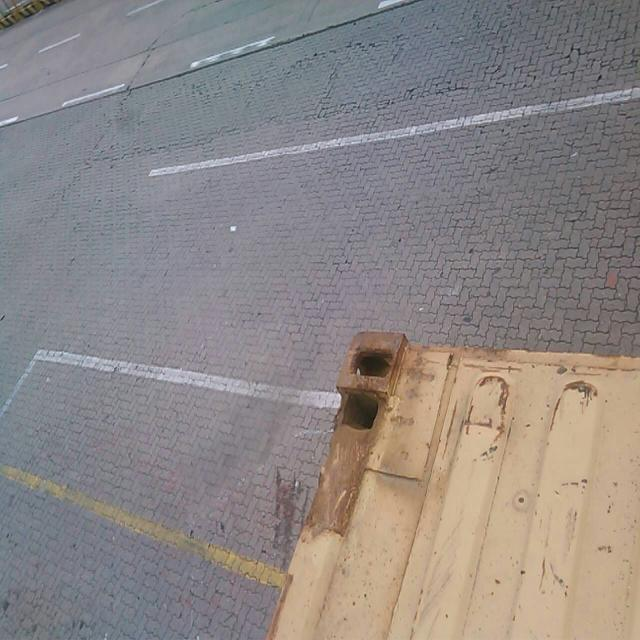hole: (337, 391, 388, 437)
